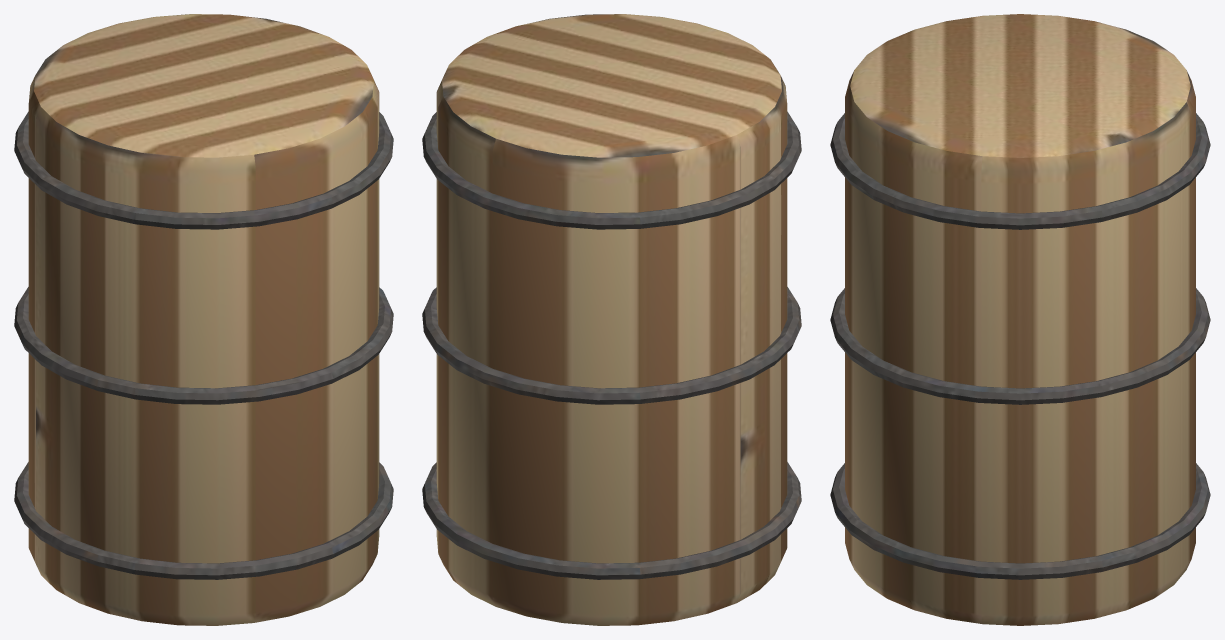
Rendered from barrel.glb.
The picture shows the model from 3 angles, left to right: view 1: azimuth 30°, elevation 25°; view 2: azimuth 150°, elevation 25°; view 3: azimuth 270°, elevation 25°; orthographic projection.
Parts seen in each view (by area): view 1: staves; view 2: staves; view 3: staves.
Part boxes in pixels (<box>): staves: <box>14,14,393,625</box>; staves: <box>422,14,801,625</box>; staves: <box>830,14,1210,625</box>.
Bounding box in the file's own units: 0.65 × 0.9 × 0.65.
Materials: 1 (1 with a texture image).
